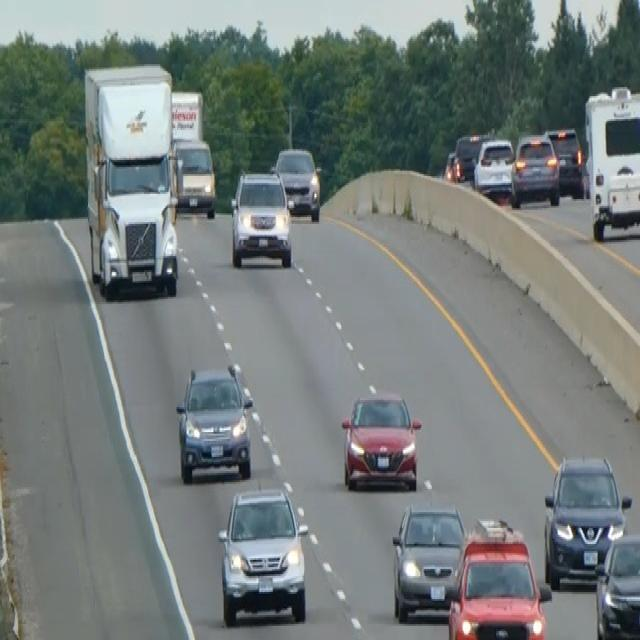car: (216, 484, 308, 626), (446, 518, 551, 638), (542, 452, 631, 588), (175, 361, 253, 483), (390, 496, 465, 622), (340, 388, 422, 490), (229, 167, 292, 269), (594, 530, 639, 638), (510, 132, 560, 208), (273, 144, 321, 220), (172, 135, 216, 217), (544, 124, 583, 196), (473, 135, 515, 201), (451, 132, 488, 182), (442, 148, 457, 183)
lorry: (82, 60, 180, 298)
